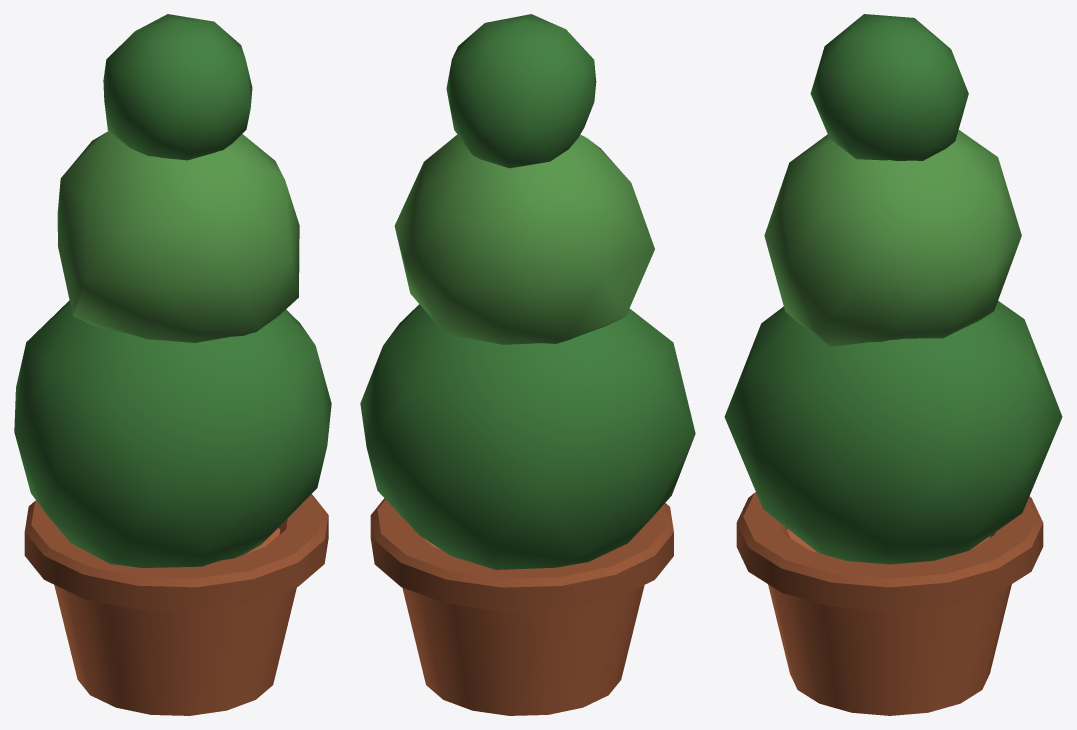
The model's file is statue_topiary.glb.
3 views of the same model, side by side, from view 1: azimuth 30°, elevation 25°; view 2: azimuth 150°, elevation 25°; view 3: azimuth 270°, elevation 25° (orthographic).
Visible parts, largest first — view 1: statue_topiary; view 2: statue_topiary; view 3: statue_topiary.
Part boxes in pixels (x1=…): statue_topiary: x1=14, y1=14, x2=331, y2=715; statue_topiary: x1=360, y1=14, x2=695, y2=715; statue_topiary: x1=724, y1=14, x2=1062, y2=715.
Size of the model in its own units: 0.9808 by 2.16 by 1.01.
